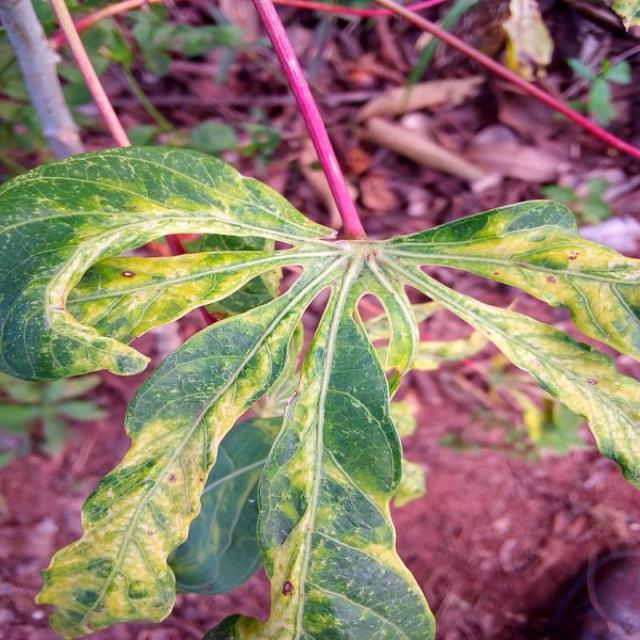cassava leaf: (2, 2, 640, 637), (2, 143, 339, 382)
